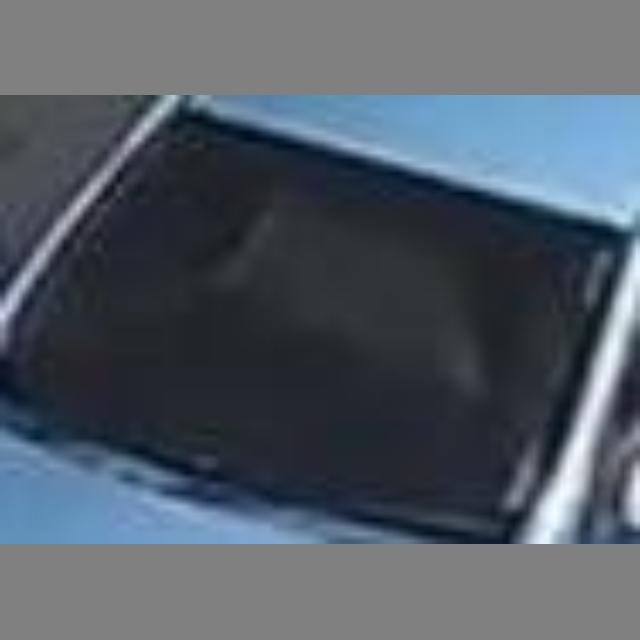tidak-pakai: (225, 184, 497, 408)
